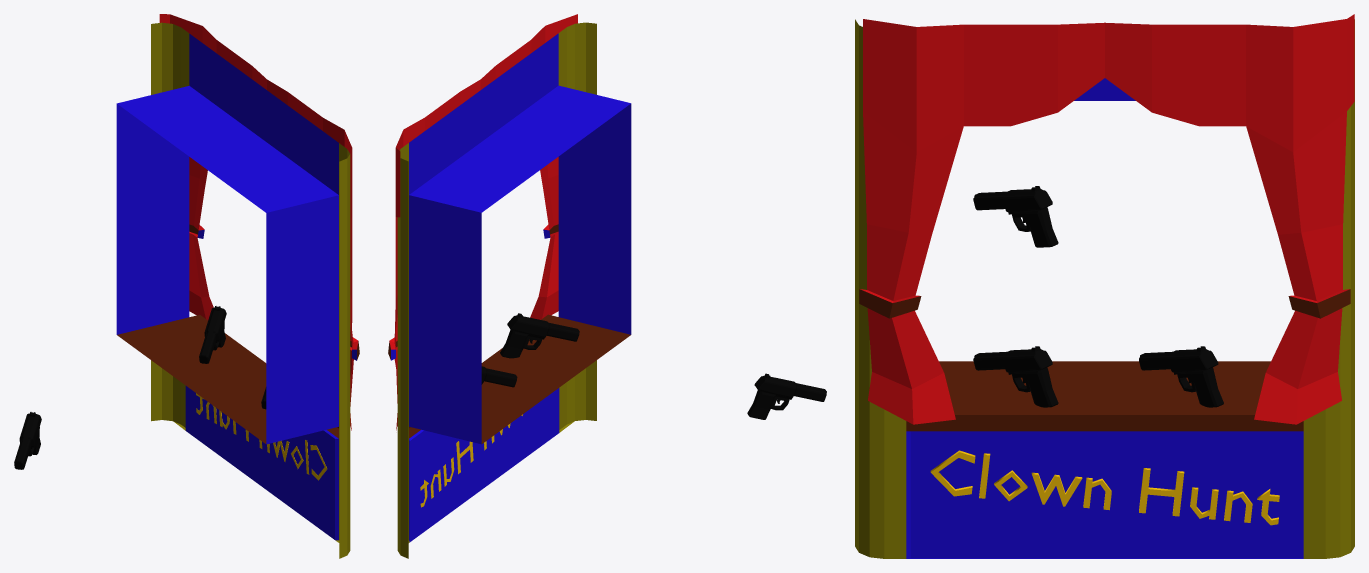
Rendered from booth.glb.
3 views of the same model, side by side, from view 1: azimuth 30°, elevation 25°; view 2: azimuth 150°, elevation 25°; view 3: azimuth 270°, elevation 25° (orthographic). The views are drawn at different scales.
Parts seen in each view (by area): view 1: Booth, Cube.002; view 2: Booth, Cube.002; view 3: Booth, Cube.002.
Boxes of the visible parts, bbox=[...] form: Booth: bbox=[116, 14, 359, 558]; Cube.002: bbox=[14, 412, 41, 469]; Booth: bbox=[388, 14, 631, 558]; Cube.002: bbox=[747, 373, 826, 419]; Booth: bbox=[855, 14, 1354, 558]; Cube.002: bbox=[973, 186, 1058, 247].
Size of the model in its own units: 3.2 by 3.99 by 3.36.
